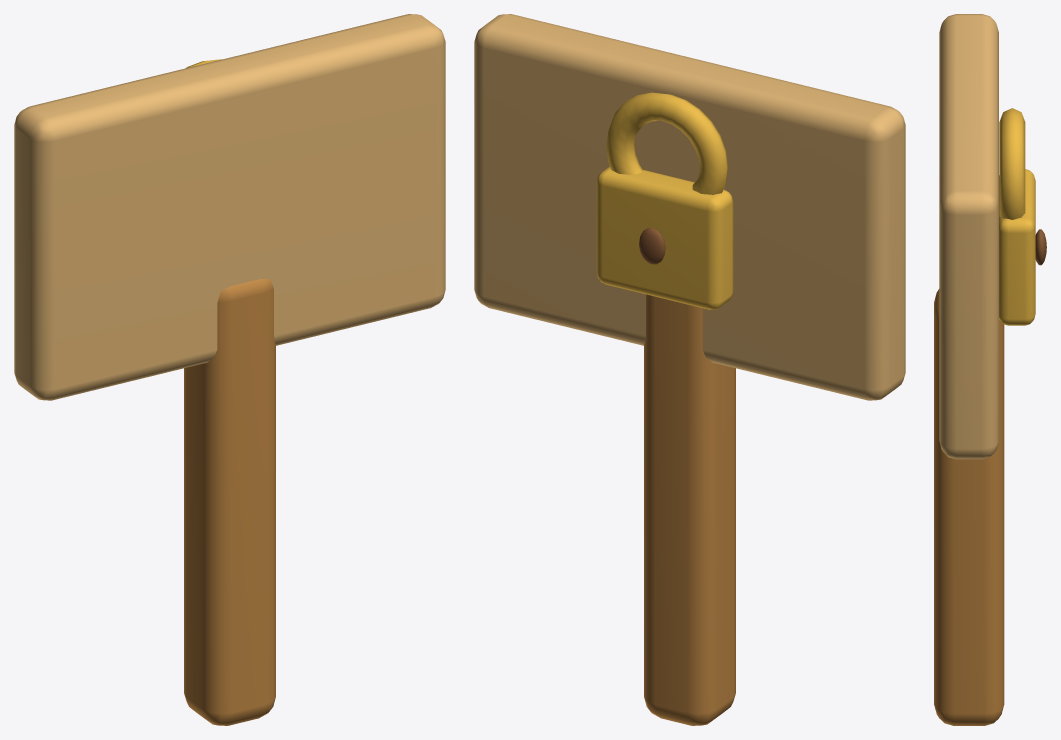
File: wood_lock_sign.fbx
3 renders of one model, left to right at view 1: azimuth 30°, elevation 25°; view 2: azimuth 150°, elevation 25°; view 3: azimuth 270°, elevation 25°, orthographic. The views are drawn at different scales.
Parts seen in each view (by area): view 1: wood_lock_sign; view 2: wood_lock_sign; view 3: wood_lock_sign.
Boxes of the visible parts, box(x1,y1,x2,y2) form: wood_lock_sign: box(14, 14, 445, 725); wood_lock_sign: box(474, 14, 905, 725); wood_lock_sign: box(934, 14, 1046, 725).
Bounding box in the file's own units: 0.4 × 0.6 × 0.1.
1 material, 1 textured.
